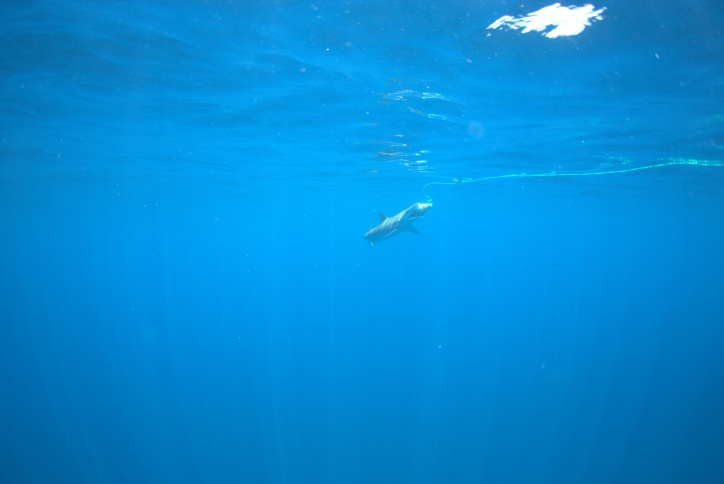Sedoso: (351, 200, 428, 244)
